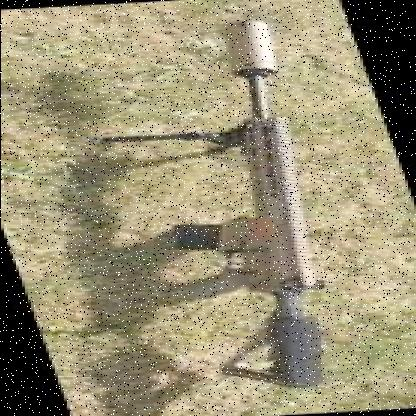rifle: (66, 14, 416, 387)
